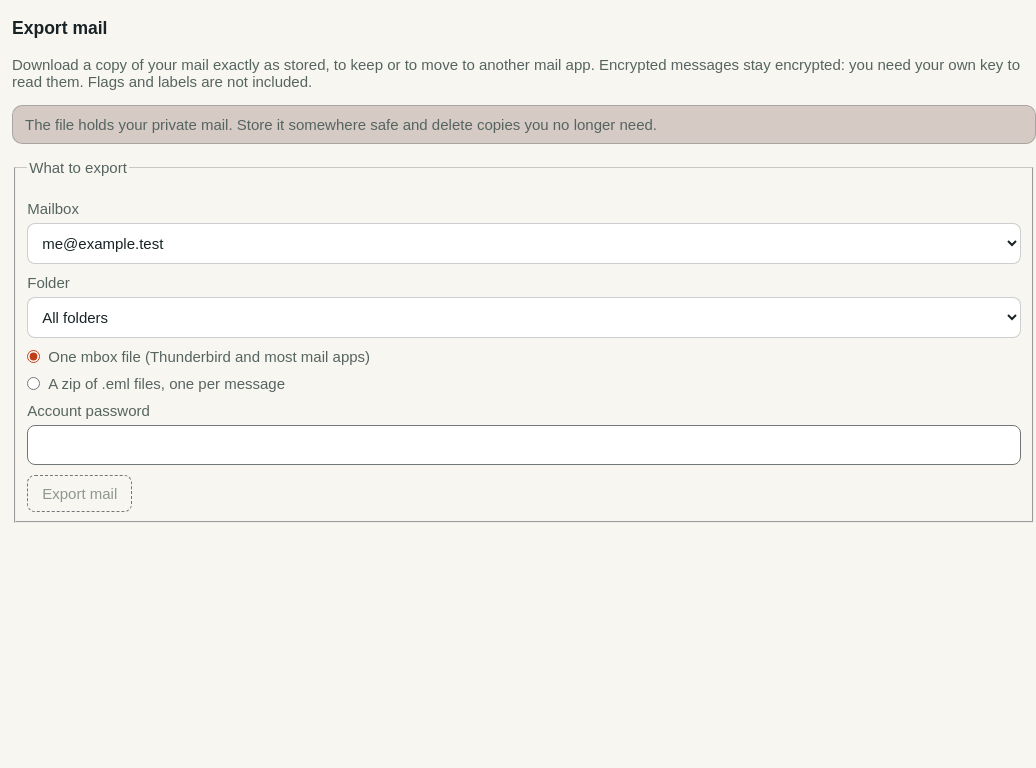
Test case: exports the chosen mailbox, folder and format after step-up, then navigates to the download
The image size is (1036, 768).
Expected: the text "Encrypted messages stay encrypted" is shown, [12,56,1020,90]
Expected: the text "holds your private mail" is shown, [25,116,657,133]
Select "sales@example.test" in the dropdown labelled "Mailbox" at (524, 244), box [27,223,1021,264]
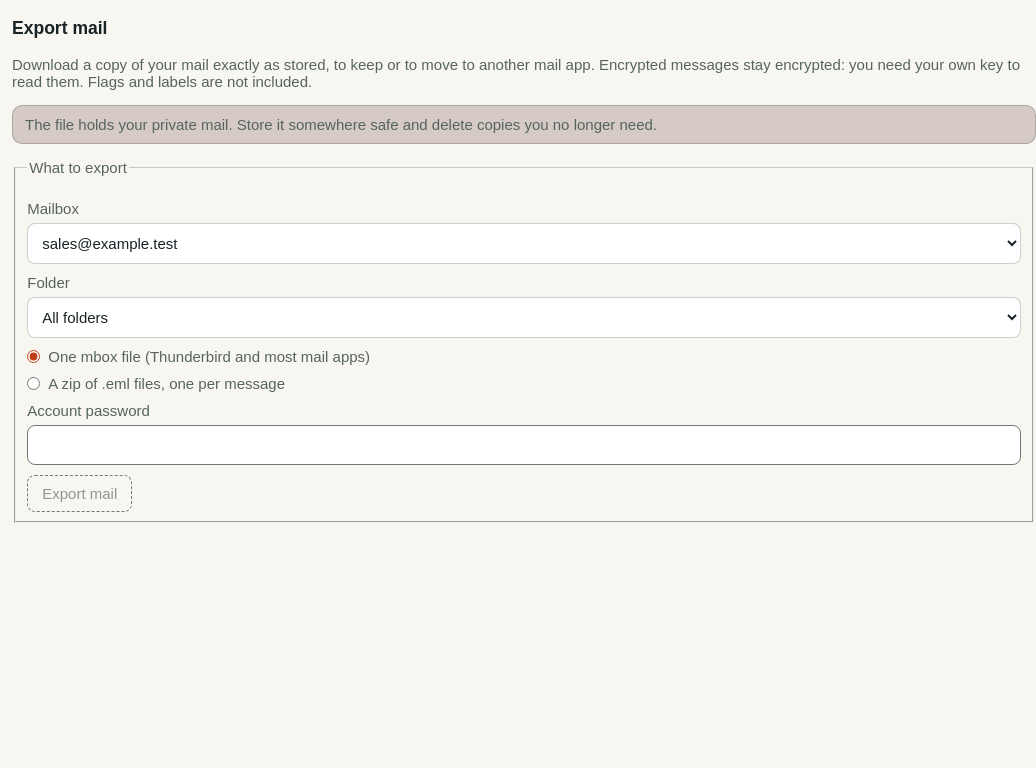
Select "Leads" in the dropdown labelled "Folder" at (524, 318), box [27,297,1021,338]
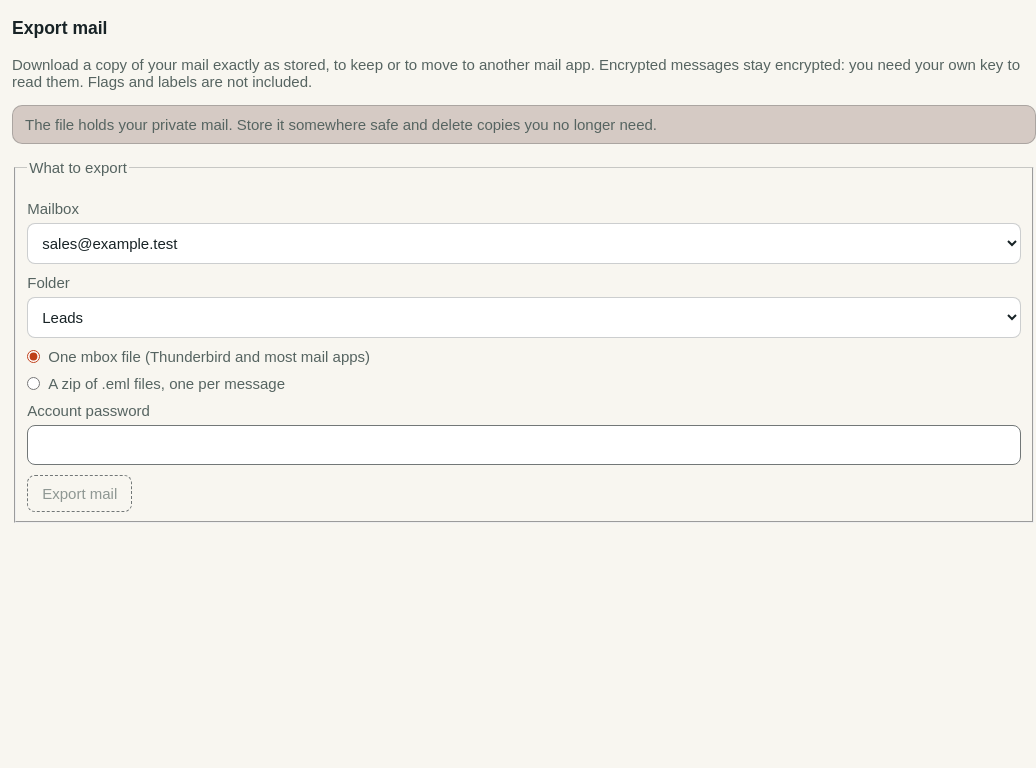
Click the radio button labelled "A zip of .eml files, one per message" at (34, 384), box [27,377,40,390]
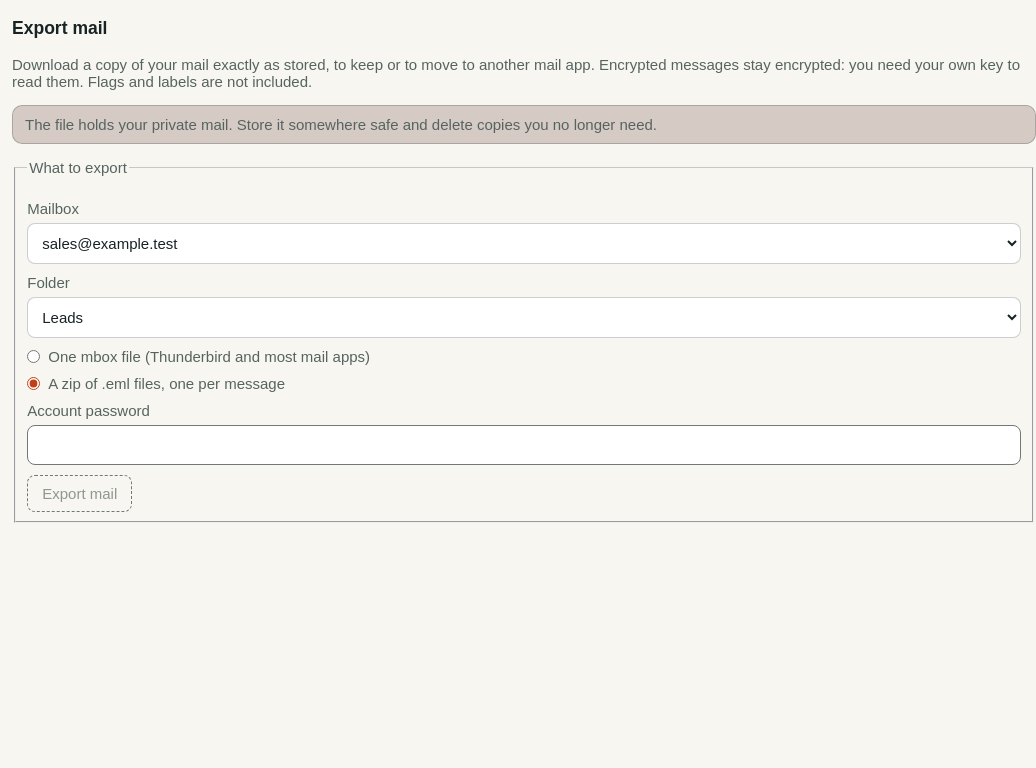
Type "account-secret" into the password field labelled "Account password" at (524, 445), box [27,425,1021,465]
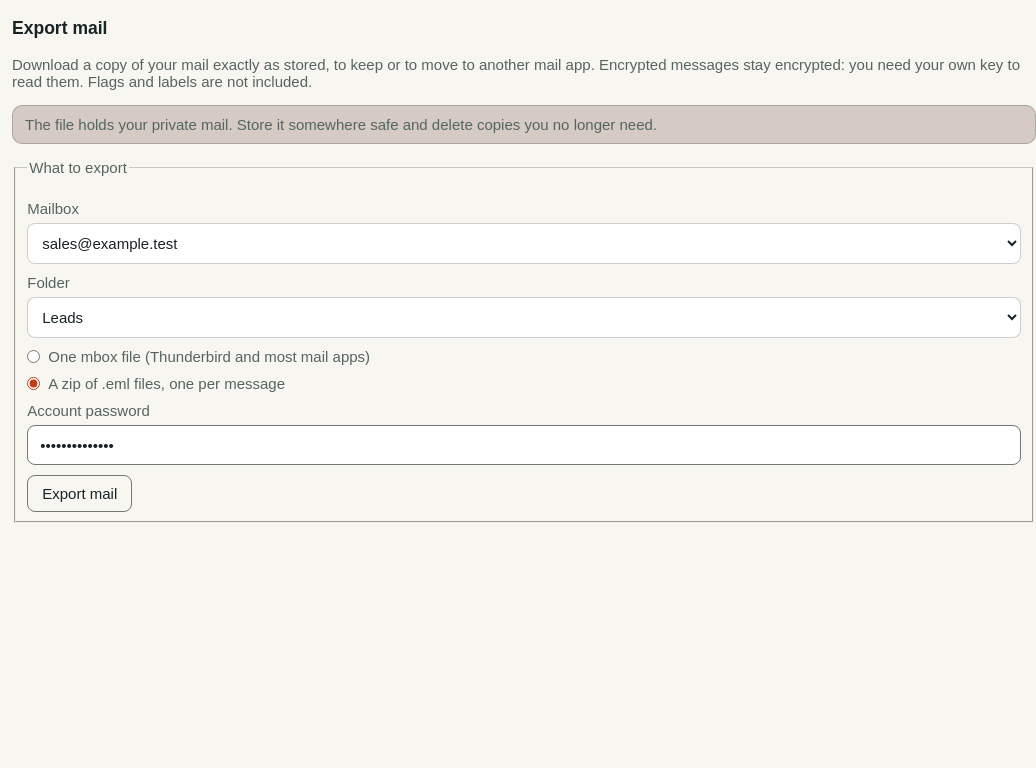
Click the button "Export mail" at (80, 494), box [27,475,132,512]
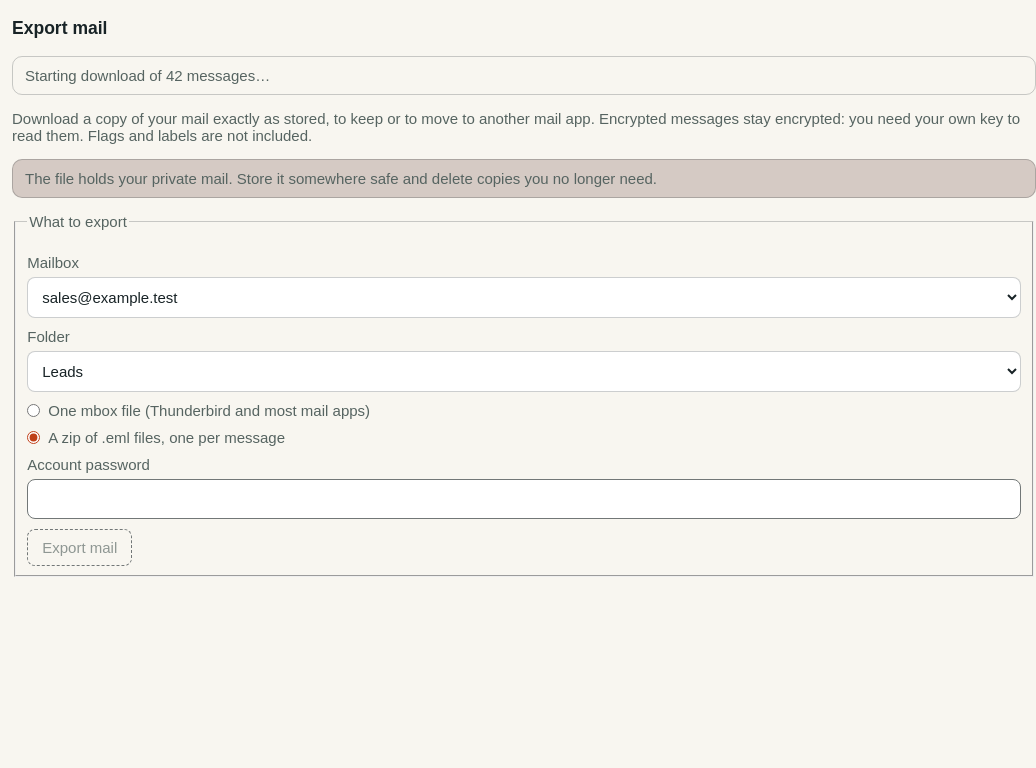
Expected: the password field labelled "Account password" is empty, [27,479,1021,519]
Expected: the text "Starting download of 42 messages…" is shown, [12,56,1035,95]
